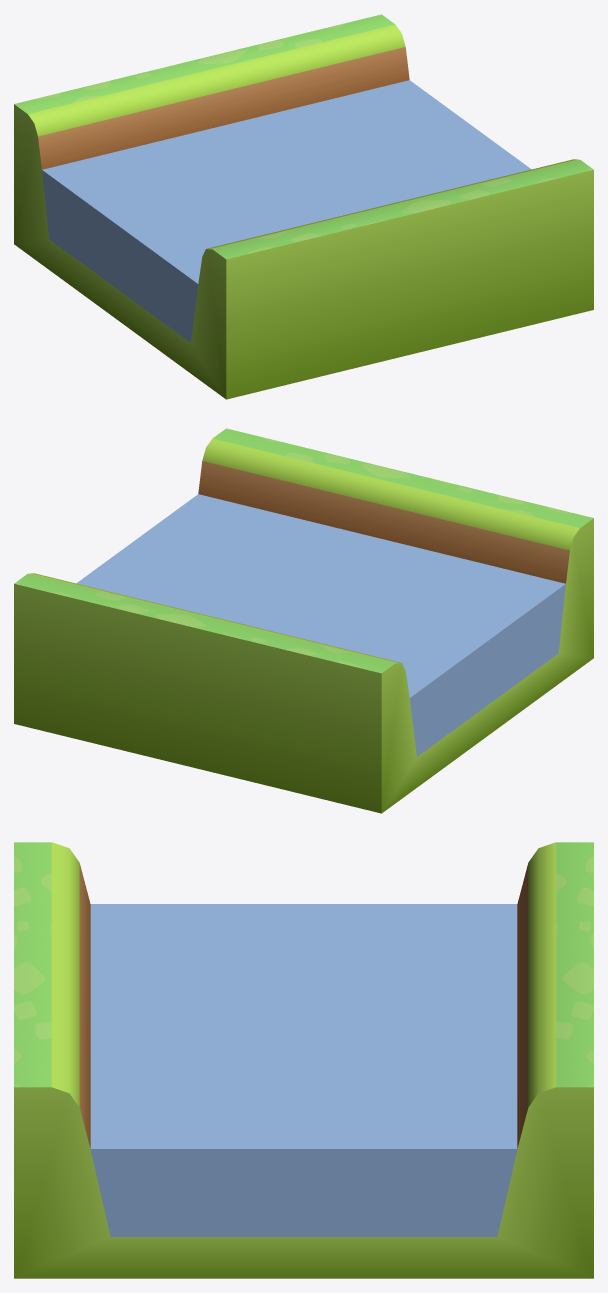
Rendered from RiverTile_1_2.fbx.
3 renders of one model, top to bottom at view 1: azimuth 30°, elevation 25°; view 2: azimuth 150°, elevation 25°; view 3: azimuth 270°, elevation 25°, orthographic. The views are drawn at different scales.
Parts seen in each view (by area): view 1: RiverTile_1_2; view 2: RiverTile_1_2; view 3: RiverTile_1_2.
Boxes of the visible parts, <box> form: RiverTile_1_2: <box>14,14,593,399</box>; RiverTile_1_2: <box>14,428,593,813</box>; RiverTile_1_2: <box>14,842,593,1278</box>.
Size of the model in its own units: 400 by 146 by 400.
